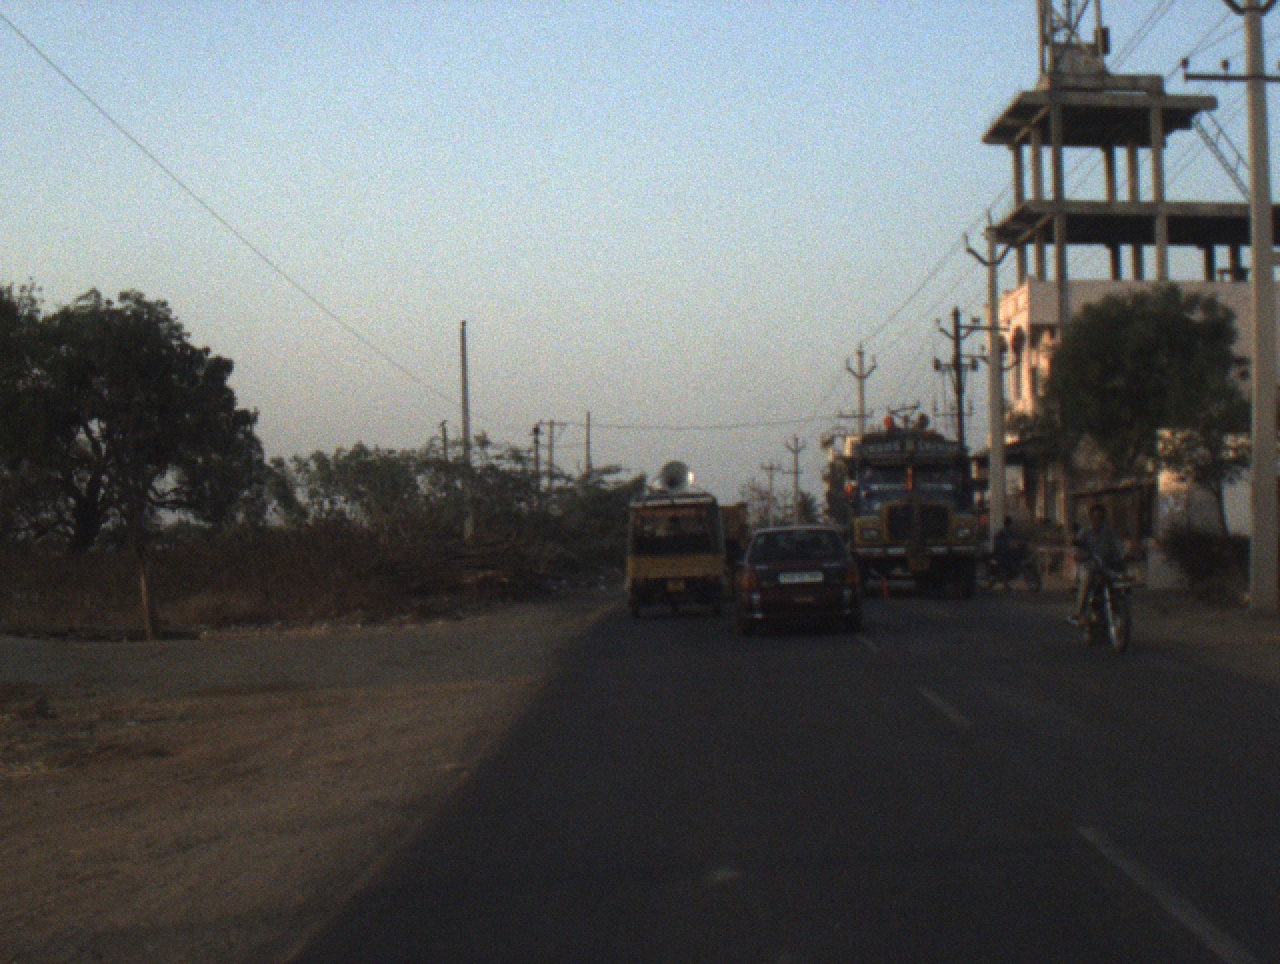car: (620, 460, 733, 622), (733, 526, 862, 634)
motorcycle: (1066, 537, 1146, 657), (980, 533, 1051, 597)
person: (1121, 534, 1143, 565), (980, 509, 996, 545), (1067, 520, 1086, 548), (1144, 530, 1161, 555)
rider: (1072, 504, 1121, 631), (993, 513, 1031, 594), (913, 411, 935, 435), (882, 415, 898, 434)
truck: (821, 428, 981, 601)
vehicle fallback: (721, 498, 749, 564)
